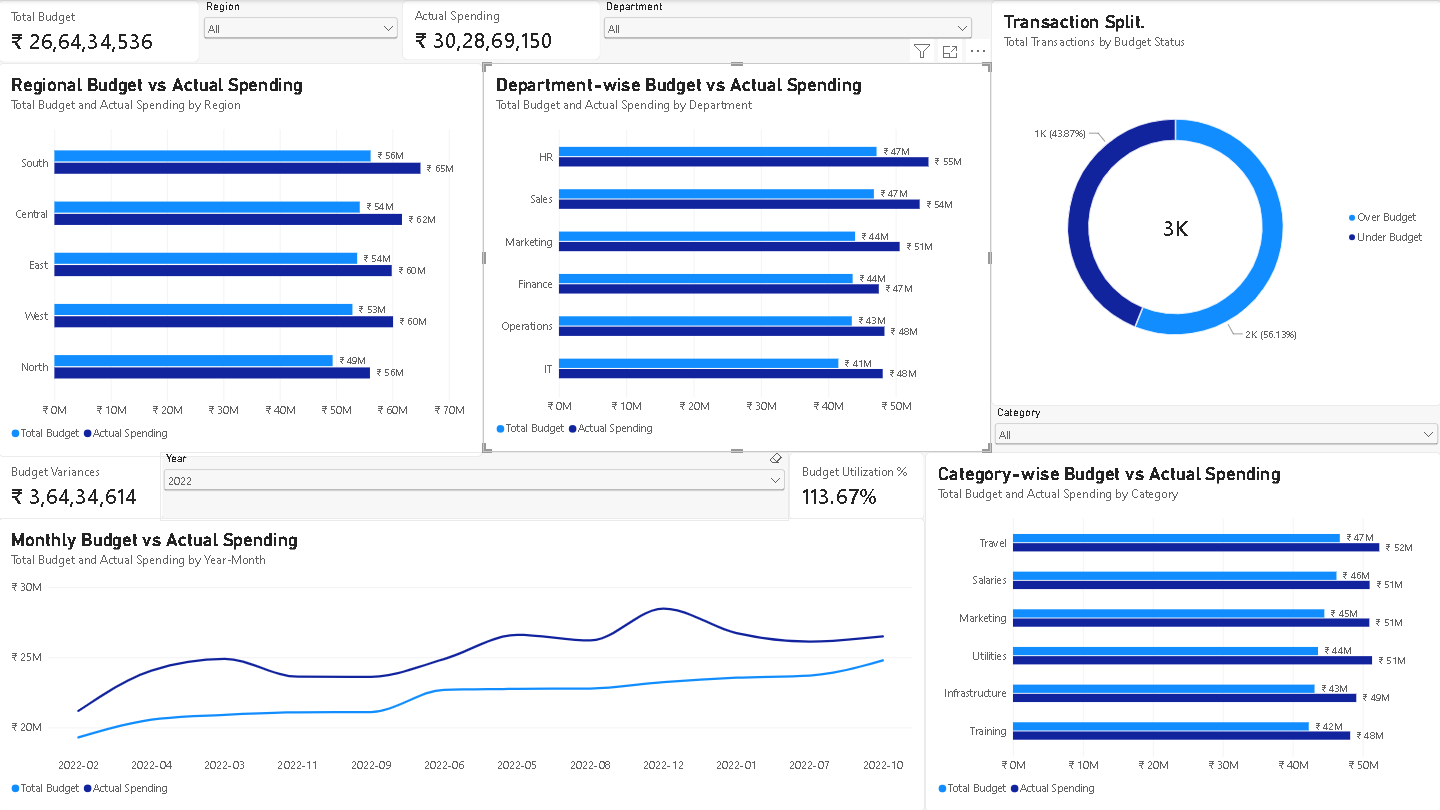

This screenshot's page, from the dashboard's own definition file:
{"tool":"powerbi","page":{"name":"Financial Overview","canvas":[1920,1080],"ordinal":0},"visuals":[{"type":"cardVisual","fields":{"Data":["Project_4_Cleaned_Data.Total Budget"]},"box":[0,0,268.4,83.2],"z":0},{"type":"cardVisual","fields":{"Data":["Project_4_Cleaned_Data.Actual Spending"]},"box":[536.9,0,264.1,80.2],"z":1000},{"type":"cardVisual","fields":{"Data":["Project_4_Cleaned_Data.Budget Variances"]},"box":[0,601.1,220.3,91.9],"z":2000},{"type":"cardVisual","fields":{"Data":["Project_4_Cleaned_Data.Budget Utilization %"]},"box":[1051.9,601.1,180.9,91.9],"z":3000},{"type":"clusteredBarChart","title":"Department-wise Budget vs Actual Spending","fields":{"Category":["Project_4_Cleaned_Data.Department"],"Y":["Project_4_Cleaned_Data.Total Budget","Project_4_Cleaned_Data.Actual Spending"]},"box":[644.9,83.2,675.5,517.9],"z":8000},{"type":"clusteredBarChart","title":"Category-wise Budget vs Actual Spending","fields":{"Category":["Project_4_Cleaned_Data.Category"],"Y":["Project_4_Cleaned_Data.Total Budget","Project_4_Cleaned_Data.Actual Spending"]},"box":[1232.8,601.1,687.2,478.5],"z":9000},{"type":"clusteredBarChart","title":"Regional Budget vs Actual Spending","fields":{"Category":["Project_4_Cleaned_Data.Region"],"Y":["Project_4_Cleaned_Data.Total Budget","Project_4_Cleaned_Data.Actual Spending"]},"box":[0,83.2,644.9,523.8],"z":10000},{"type":"lineChart","title":"Monthly Budget vs Actual Spending","fields":{"Category":["Date Table.Year-Month"],"Y":["Project_4_Cleaned_Data.Total Budget","Project_4_Cleaned_Data.Actual Spending"]},"box":[0,688.6,1232.8,391],"z":11000},{"type":"slicer","fields":{"Values":["Date Table.Year"]},"box":[215.9,601.1,836,91.9],"z":11001},{"type":"slicer","fields":{"Values":["Project_4_Cleaned_Data.Department"]},"box":[801,0,500.4,83.2],"z":11002},{"type":"slicer","fields":{"Values":["Project_4_Cleaned_Data.Category"]},"box":[1320.4,539.8,599.6,61.3],"z":11003},{"type":"slicer","fields":{"Values":["Project_4_Cleaned_Data.Region"]},"box":[268.4,0,268.4,80.2],"z":11004},{"type":"donutChart","title":"Transaction Split.","fields":{"Category":["Project_4_Cleaned_Data.Budget Status"],"Y":["Project_4_Cleaned_Data.Total Transactions"]},"box":[1320.4,0,599.6,539.8],"z":11005}]}

Visuals, with their boxes in screenshot pixels (x1, y1, x2, y2), scaled from the page's 1920x1080 canvas onto the 1440x810 screenshot:
cardVisual - Project_4_Cleaned_Data.Total Budget: 0,0,201,62
cardVisual - Project_4_Cleaned_Data.Actual Spending: 403,0,601,60
cardVisual - Project_4_Cleaned_Data.Budget Variances: 0,451,165,520
cardVisual - Project_4_Cleaned_Data.Budget Utilization %: 789,451,925,520
"Department-wise Budget vs Actual Spending" clusteredBarChart: 484,62,990,451
"Category-wise Budget vs Actual Spending" clusteredBarChart: 925,451,1439,809
"Regional Budget vs Actual Spending" clusteredBarChart: 0,62,484,455
"Monthly Budget vs Actual Spending" lineChart: 0,516,925,809
slicer - Date Table.Year: 162,451,789,520
slicer - Project_4_Cleaned_Data.Department: 601,0,976,62
slicer - Project_4_Cleaned_Data.Category: 990,405,1439,451
slicer - Project_4_Cleaned_Data.Region: 201,0,403,60
"Transaction Split." donutChart: 990,0,1439,405
